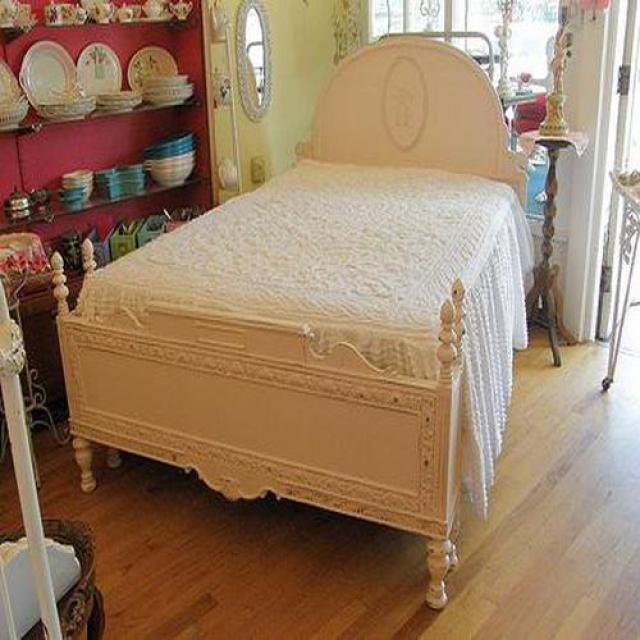bed: (56, 37, 535, 602)
